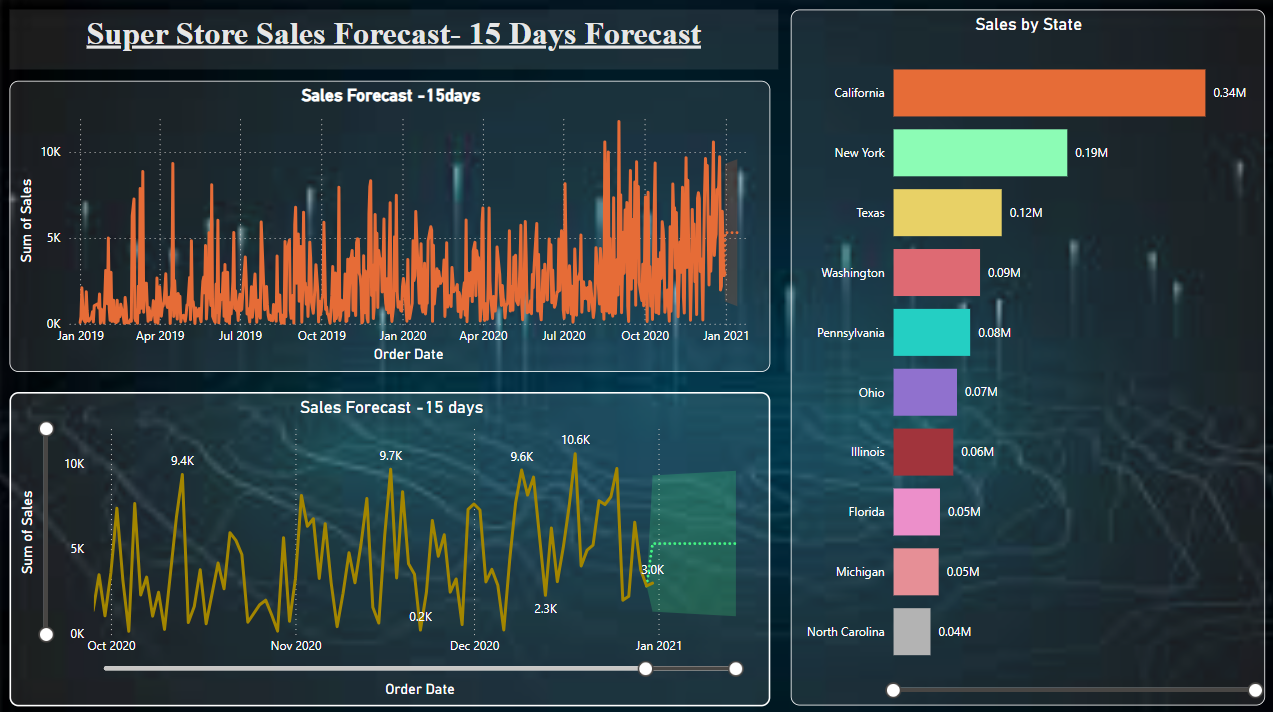

What the dashboard file says about the page in this screenshot:
{"tool":"powerbi","page":{"name":"Forcasting of Sales","canvas":[1280,720],"ordinal":1},"visuals":[{"type":"lineChart","title":"Sales Forecast -15days","fields":{"Y":["Sum(SuperStore_Sales_Dataset.Sales)"],"Category":["SuperStore_Sales_Dataset.Order Date"]},"box":[13,84,768,297],"z":0},{"type":"lineChart","title":"Sales Forecast -15 days","fields":{"Y":["Sum(SuperStore_Sales_Dataset.Sales)"],"Category":["SuperStore_Sales_Dataset.Order Date"]},"box":[13.3,394.5,768.5,314.9],"z":1000},{"type":"barChart","title":" Sales by State","fields":{"Category":["SuperStore_Sales_Dataset.State"],"Y":["Sum(SuperStore_Sales_Dataset.Sales)"]},"box":[794.3,12.9,474.3,695.7],"z":2000},{"type":"textbox","box":[12.9,12.9,768.6,60],"z":3000}]}

Visuals, with their boxes in screenshot pixels (x1, y1, x2, y2), scaled from the page's 1280x720 canvas onto the 1273x712 screenshot:
"Sales Forecast -15days" lineChart: l=13, t=83, r=777, b=377
"Sales Forecast -15 days" lineChart: l=13, t=390, r=778, b=702
" Sales by State" barChart: l=790, t=13, r=1262, b=701
textbox: l=13, t=13, r=777, b=72
